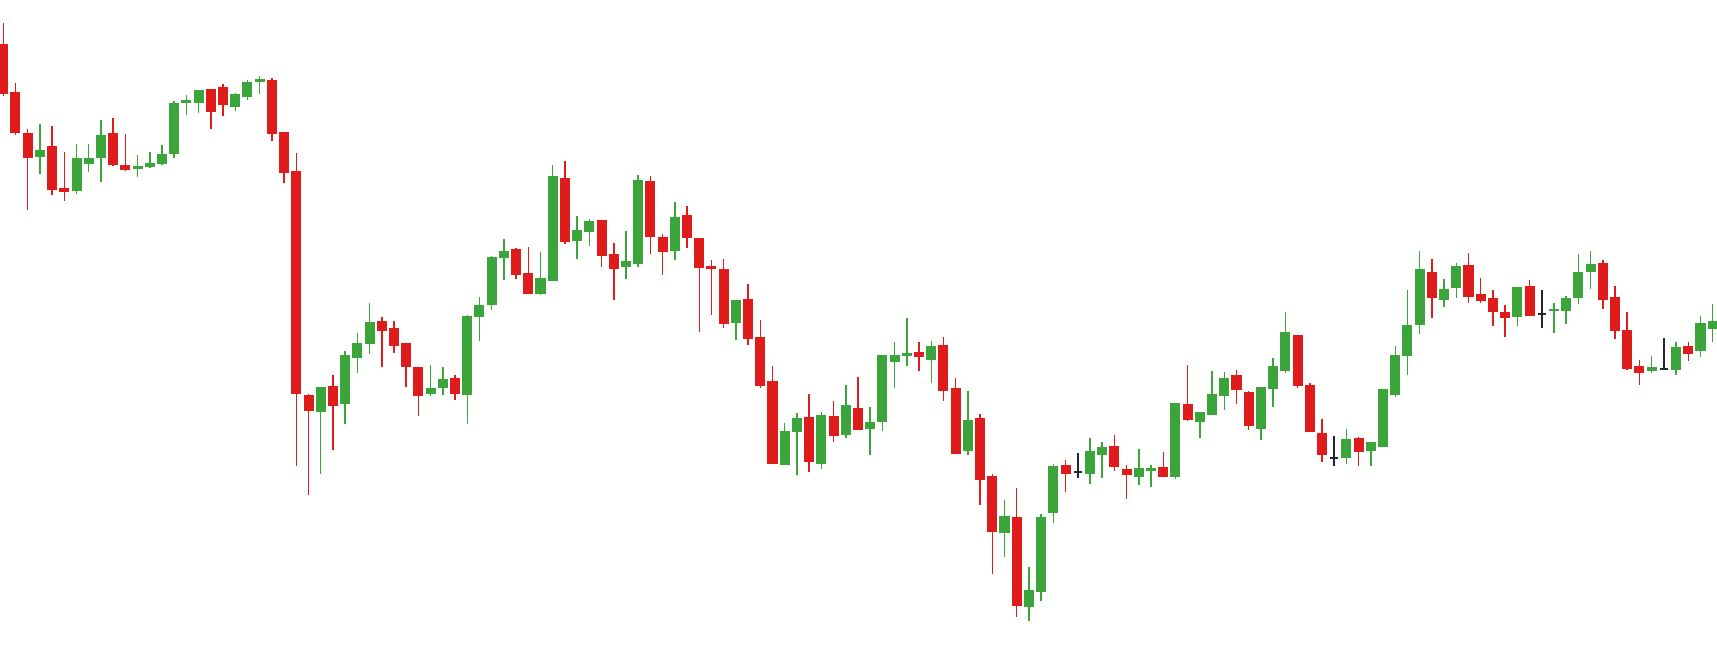sell: (1510, 255, 1609, 318)
